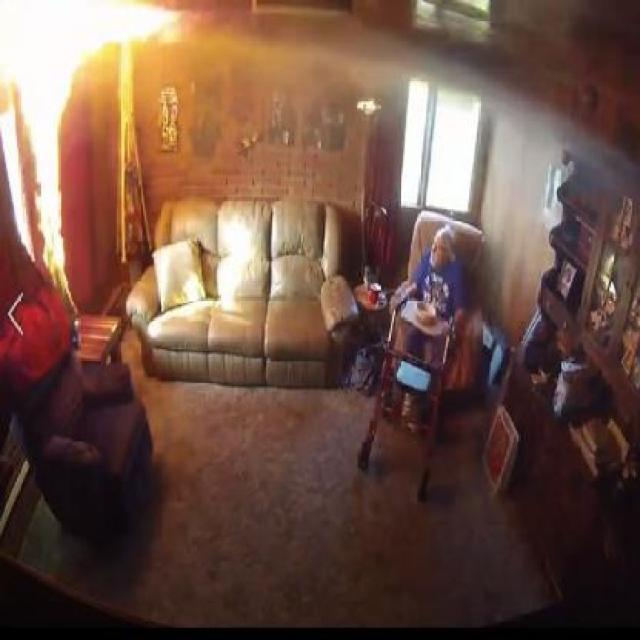Fire: (0, 1, 180, 46), (32, 100, 65, 268), (2, 48, 70, 104), (10, 166, 32, 252), (0, 108, 20, 164), (72, 46, 100, 68)
